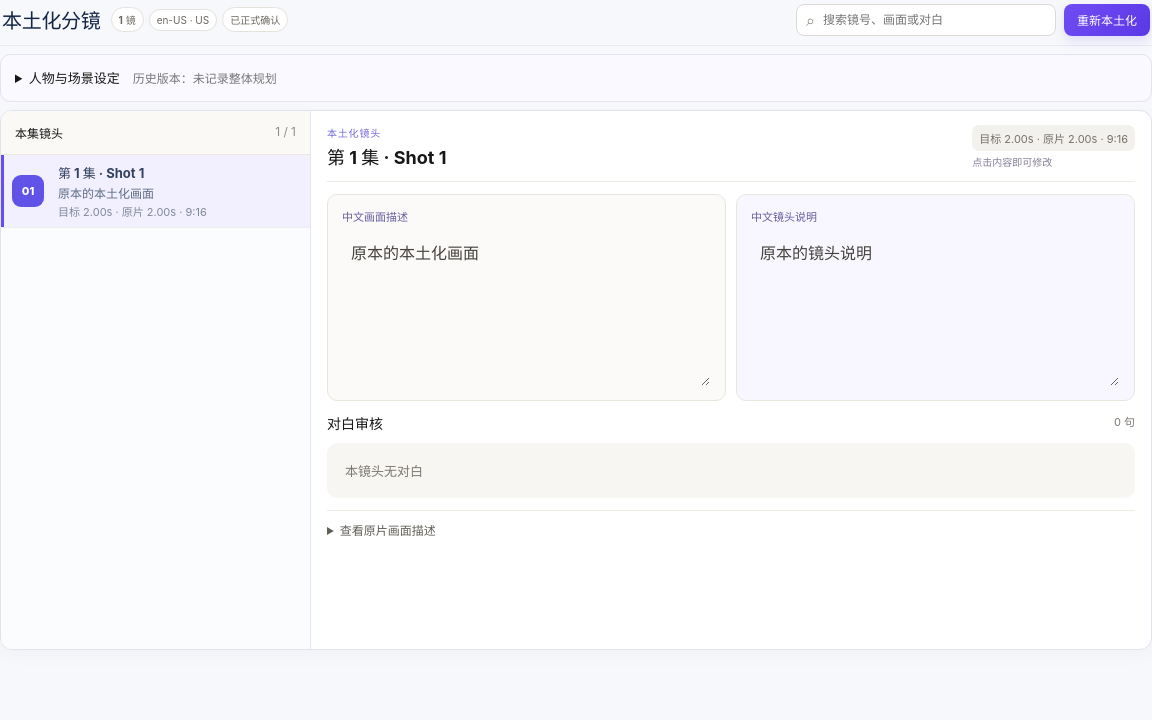
Scenario: LocalizedStoryboardWorkspace editing › edits a confirmed shot and saves it as a review candidate
Replace the text in the text box named "中文画面描述" with "修改后的本土化画面内容" at (526, 309), box left=342, top=231, right=711, bottom=387
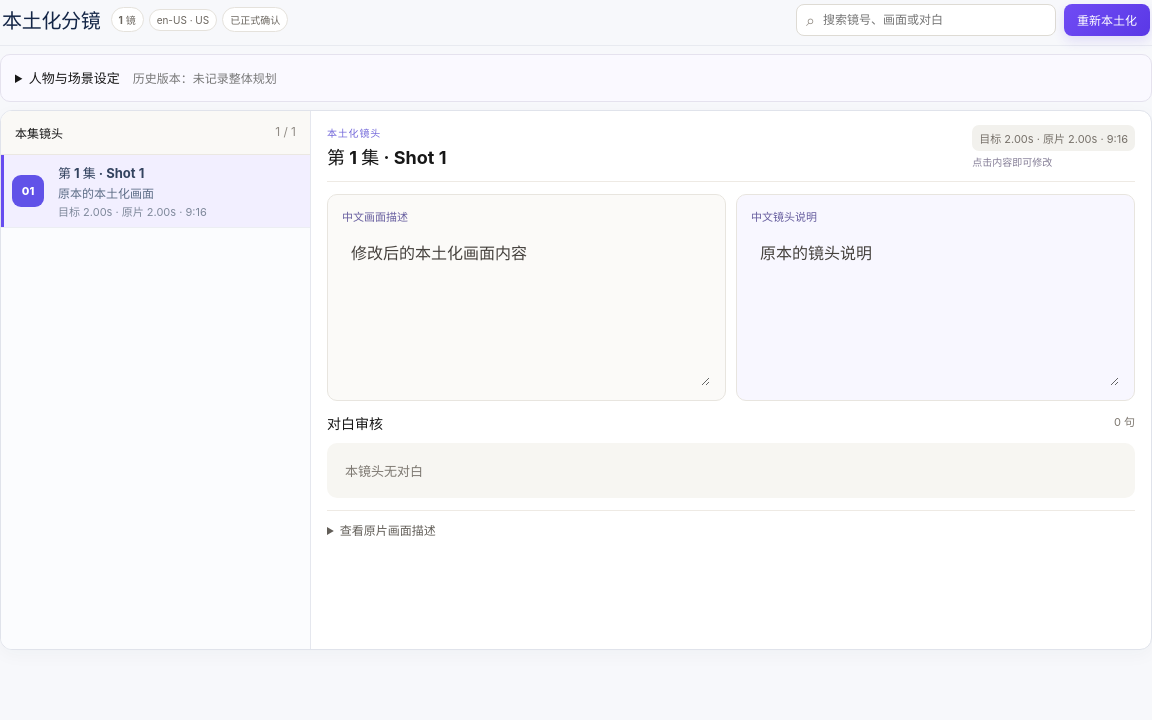
Replace the text in the text box named "中文镜头说明" with "修改后的镜头说明内容" at (936, 309), box left=751, top=231, right=1120, bottom=387
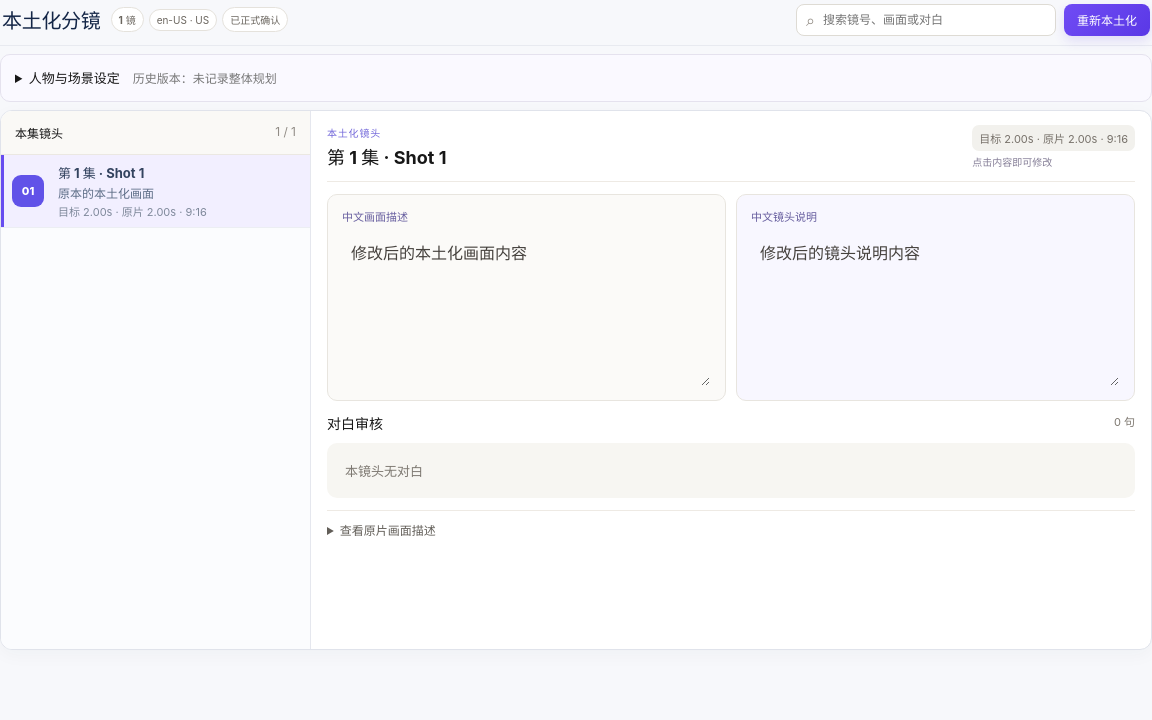
Leave the text box named "中文镜头说明", box left=751, top=231, right=1120, bottom=387
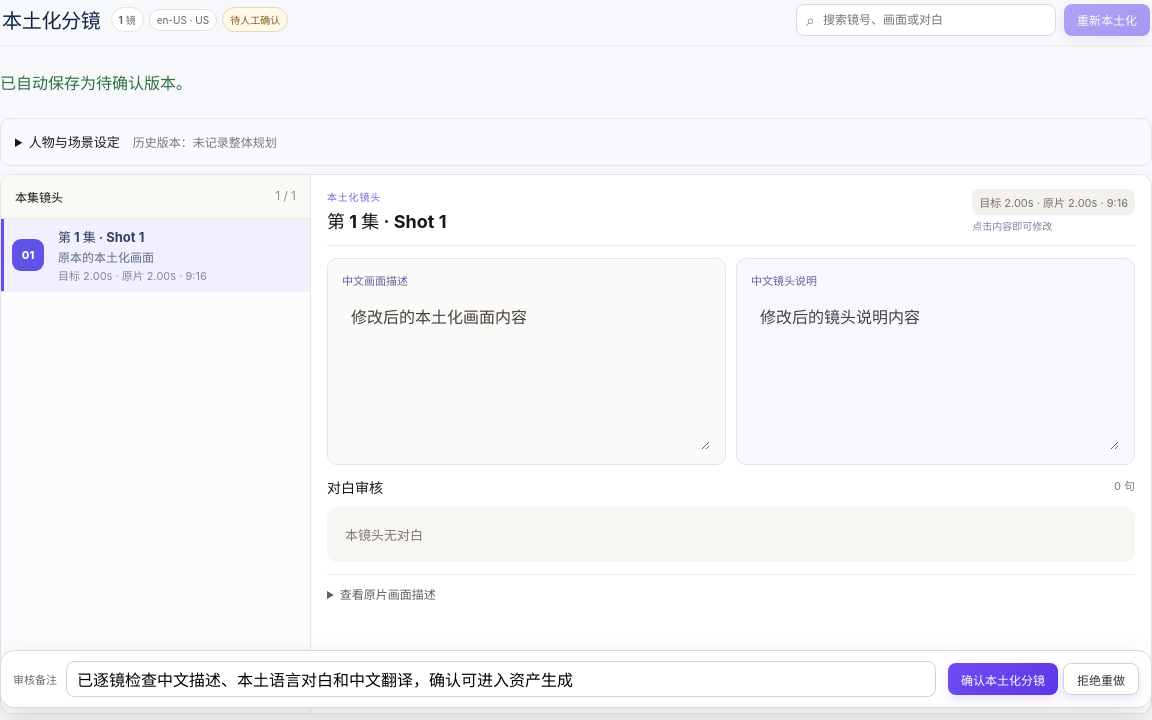
Now the text "已自动保存为待确认版本" is shown, box left=0, top=73, right=192, bottom=93
